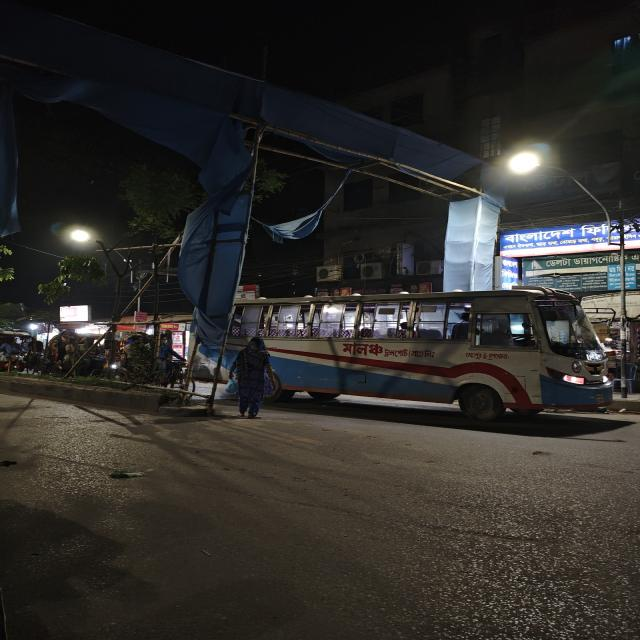bus: (220, 288, 623, 428)
pedestrian: (228, 335, 278, 421)
